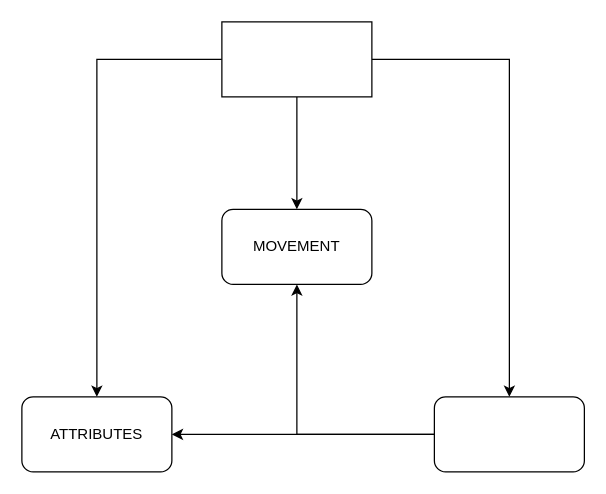
The diagram is 606 pixels wide and 494 high, and some of its shapes have lost their labels. Here are the shapes that lost their labels. From the top down, the box of each, then its label:
(221, 21, 372, 97): CONTROLS
(433, 396, 584, 472): COMBAT
